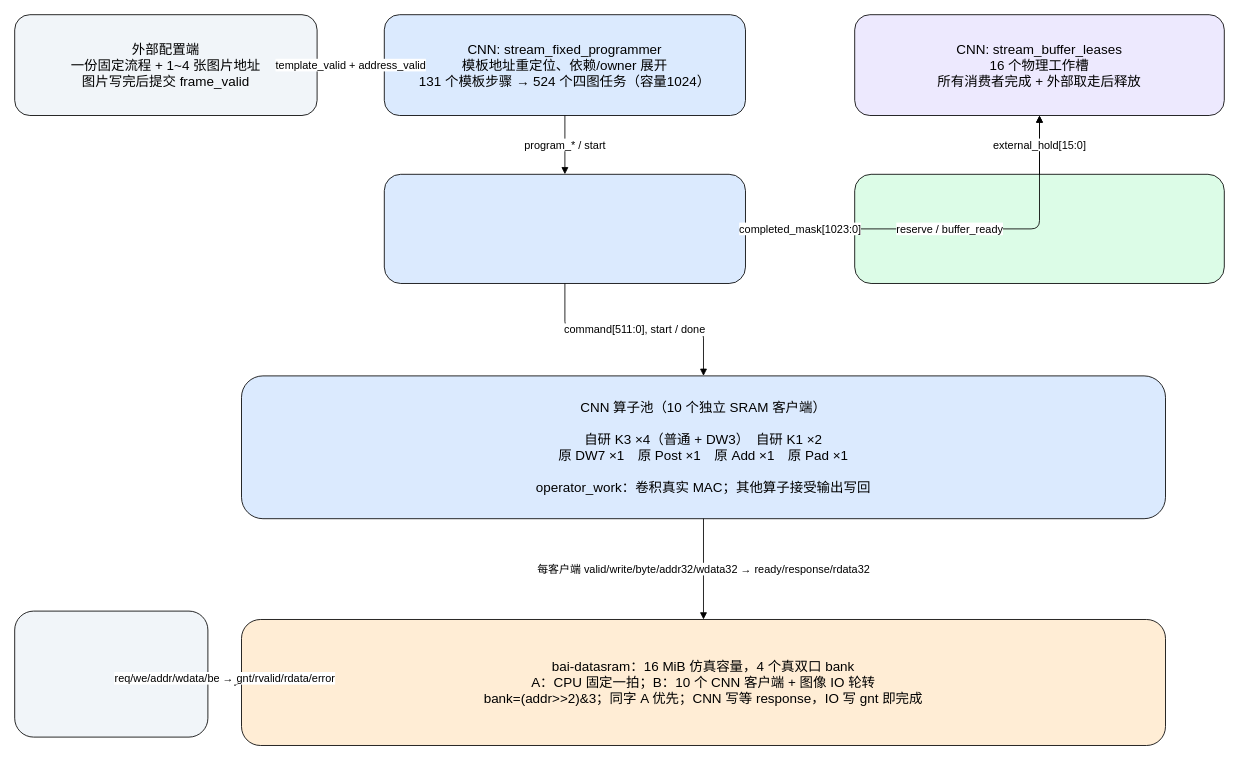
This 1239x760 diagram has some shape labels left out. The centre of each missing label's shape, as x and y in pixels:
"CNN: stream_dispatch 按输入就绪、依赖、槽所有权调度 空闲算子池轮转，图片不绑定实例" goes at (x=564, y=228).
"CNN: stream_result_handoff frame / addr / bytes 各 32 位 result_ready = 最后读响应已到达" goes at (x=1039, y=228).
"外部图像 IO 逐张写入 / 结果读出 本测试为请求驱动器" goes at (x=111, y=673).
